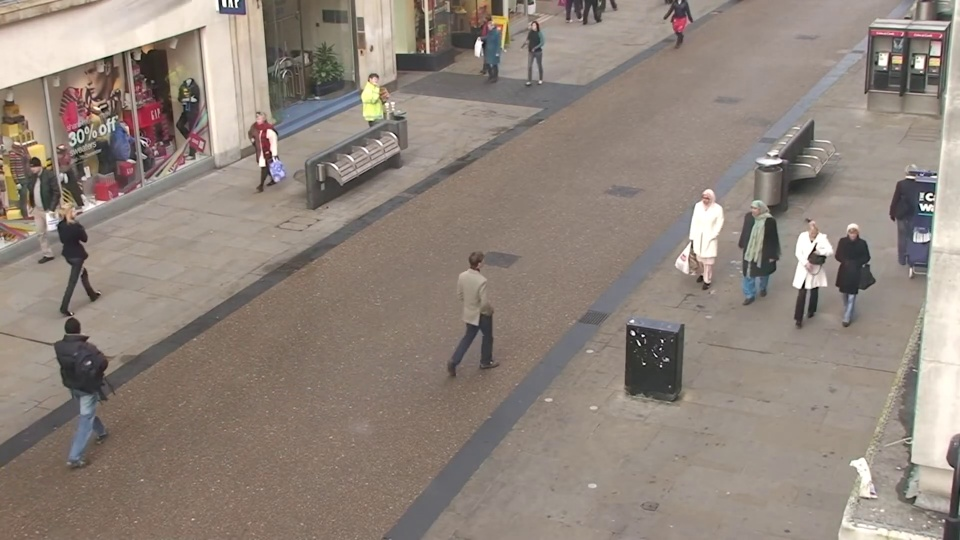pedestrian: (59, 299, 122, 441), (824, 219, 872, 343), (63, 193, 115, 306), (784, 220, 831, 343), (466, 240, 509, 370), (8, 157, 61, 262), (881, 157, 929, 267), (730, 195, 771, 313), (686, 185, 725, 300), (241, 110, 277, 203), (360, 70, 390, 152), (475, 20, 500, 89), (518, 21, 542, 90), (474, 10, 498, 76)
